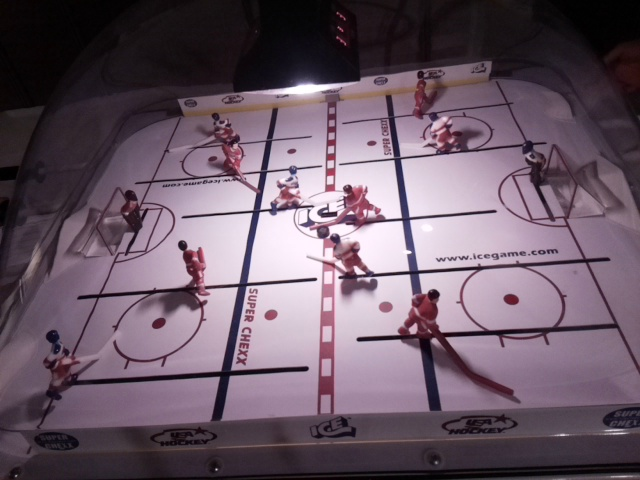puck: (317, 223, 330, 238)
